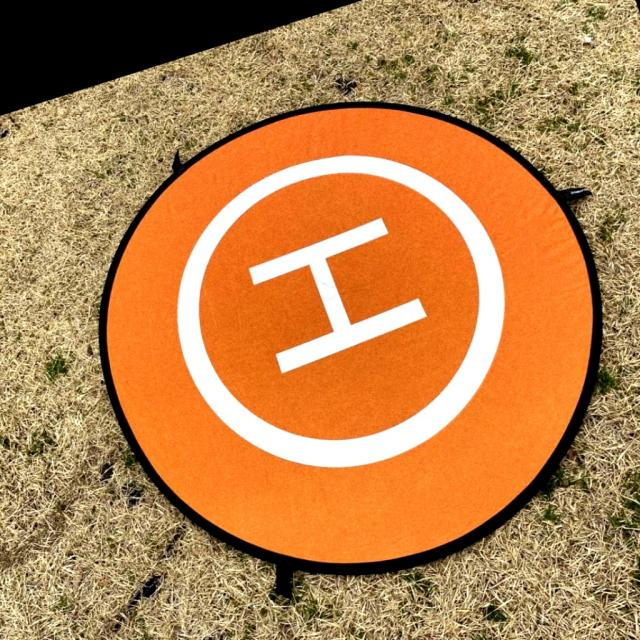helipad: (166, 148, 512, 476)
